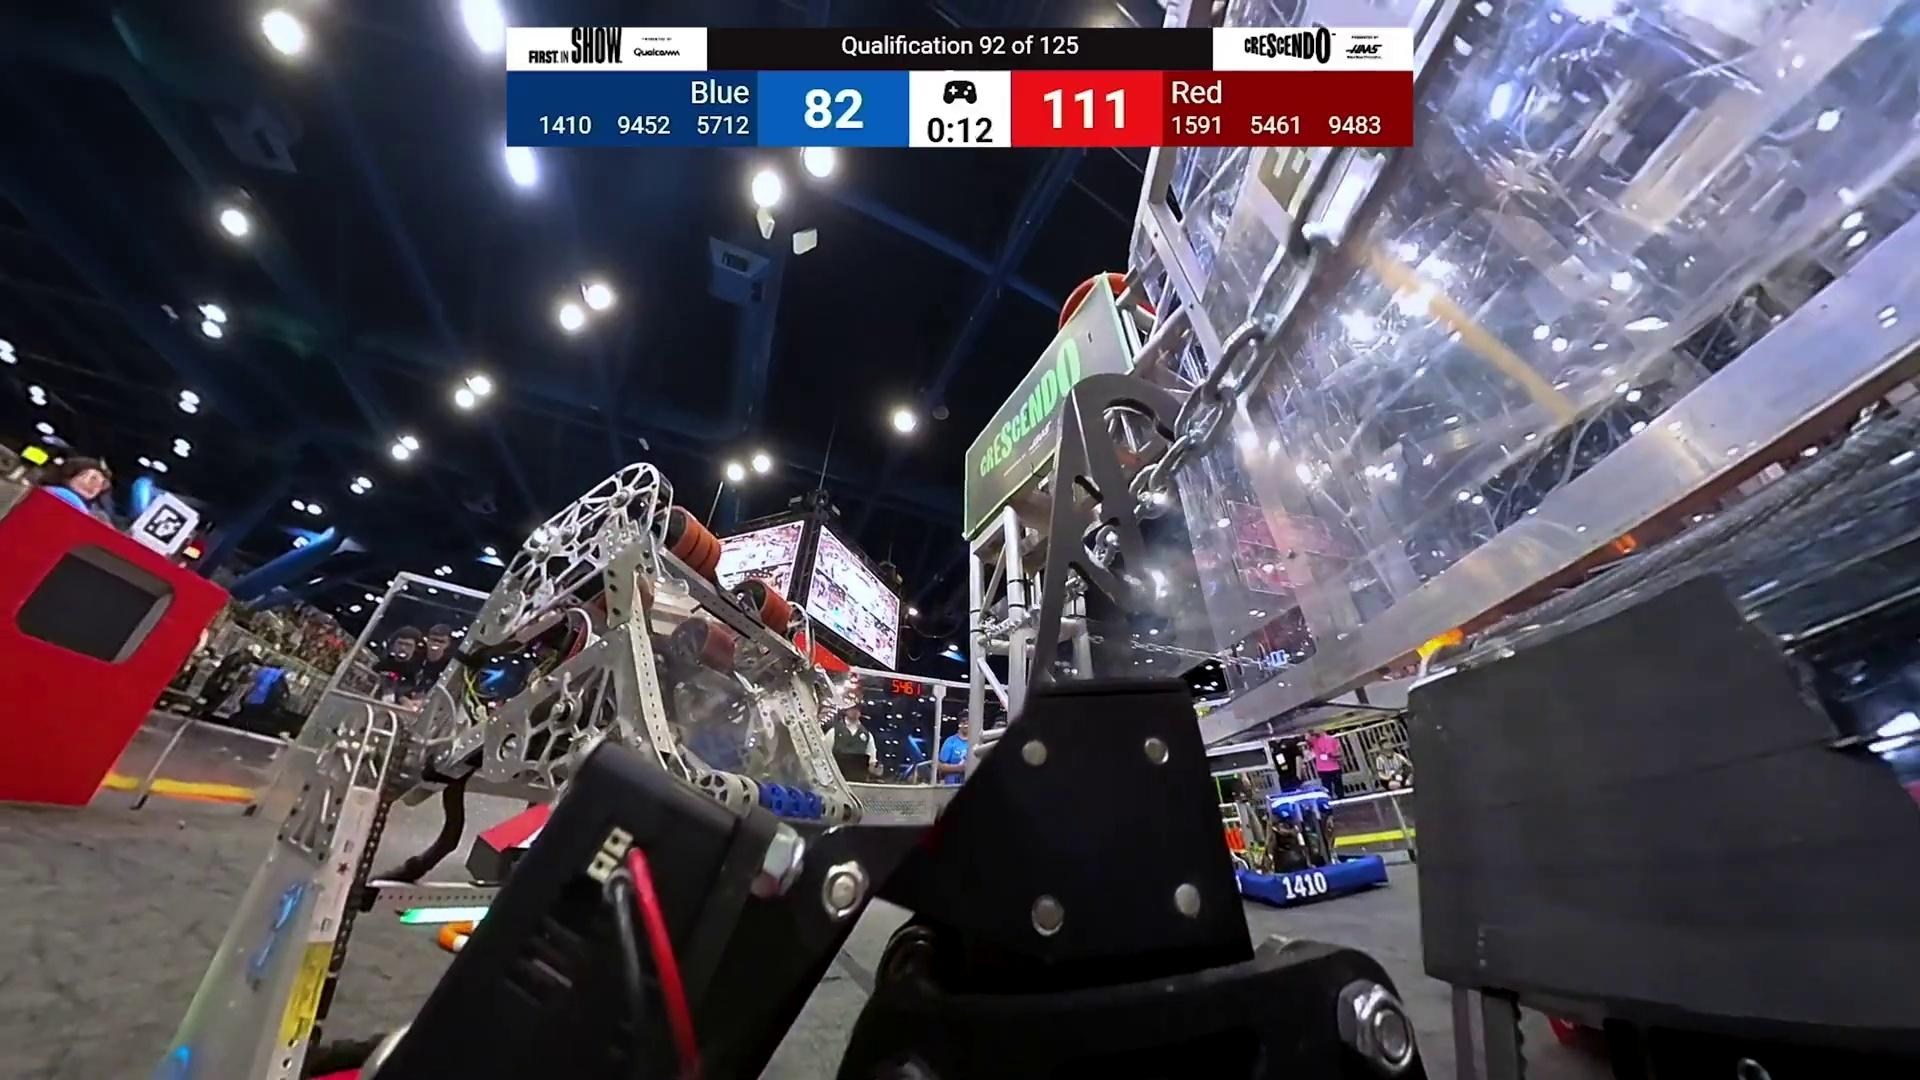robot: (1237, 786, 1388, 907)
